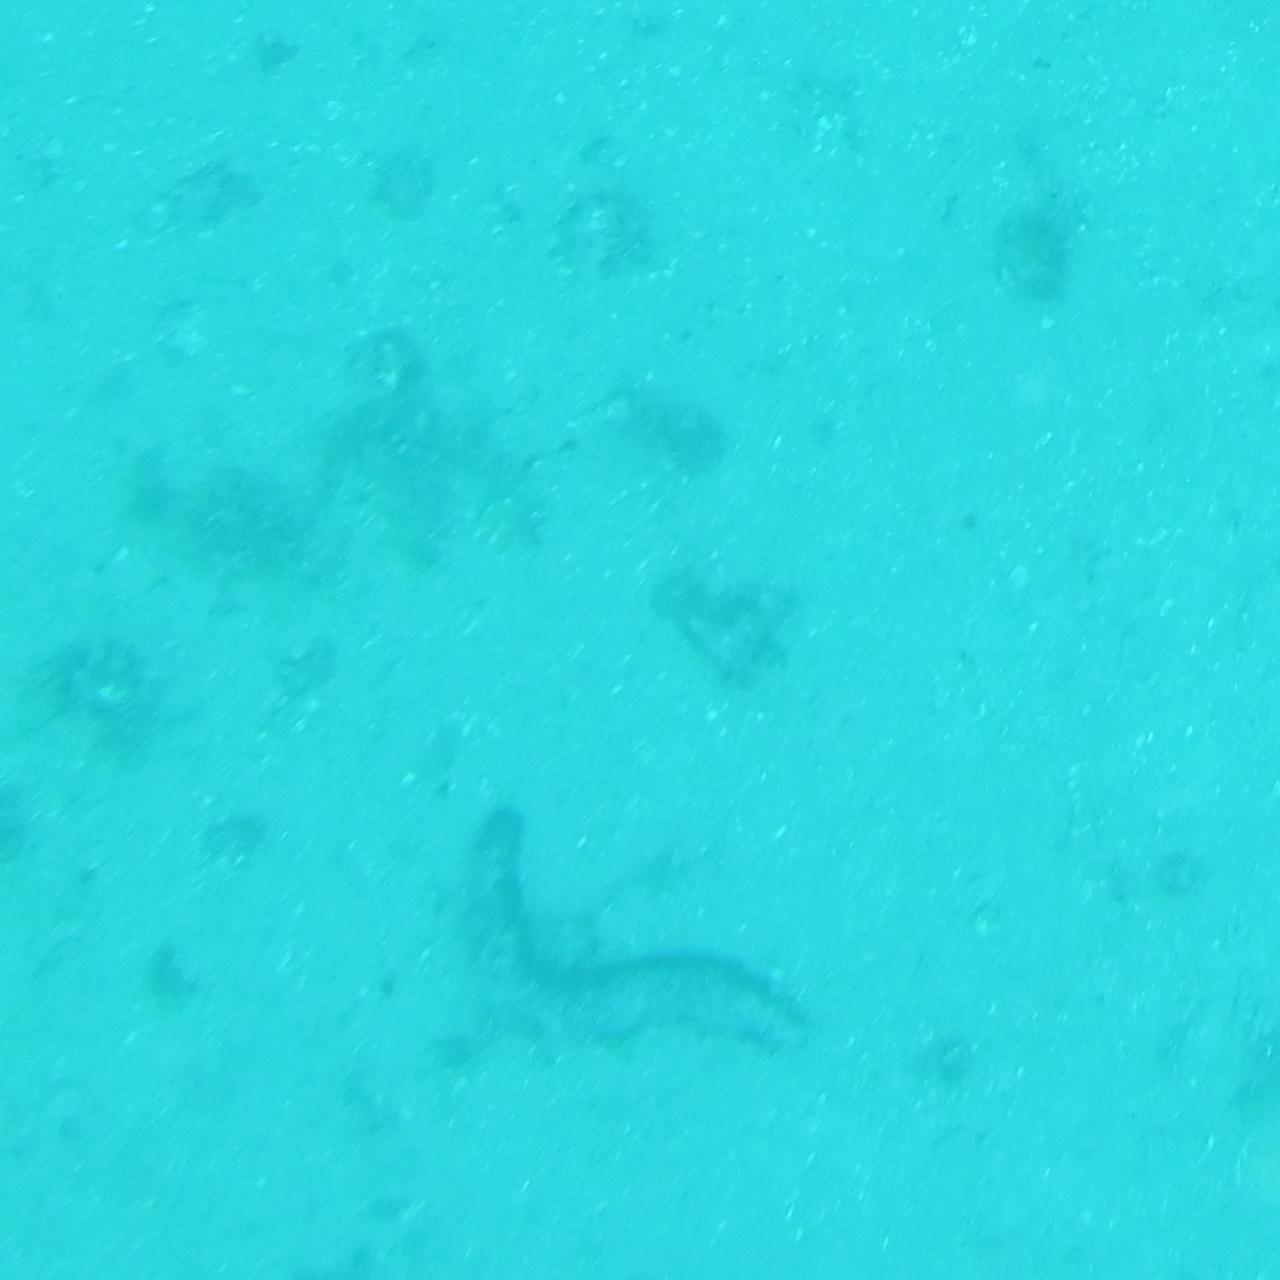Holothuria tubulosa: (463, 791, 817, 1064)
